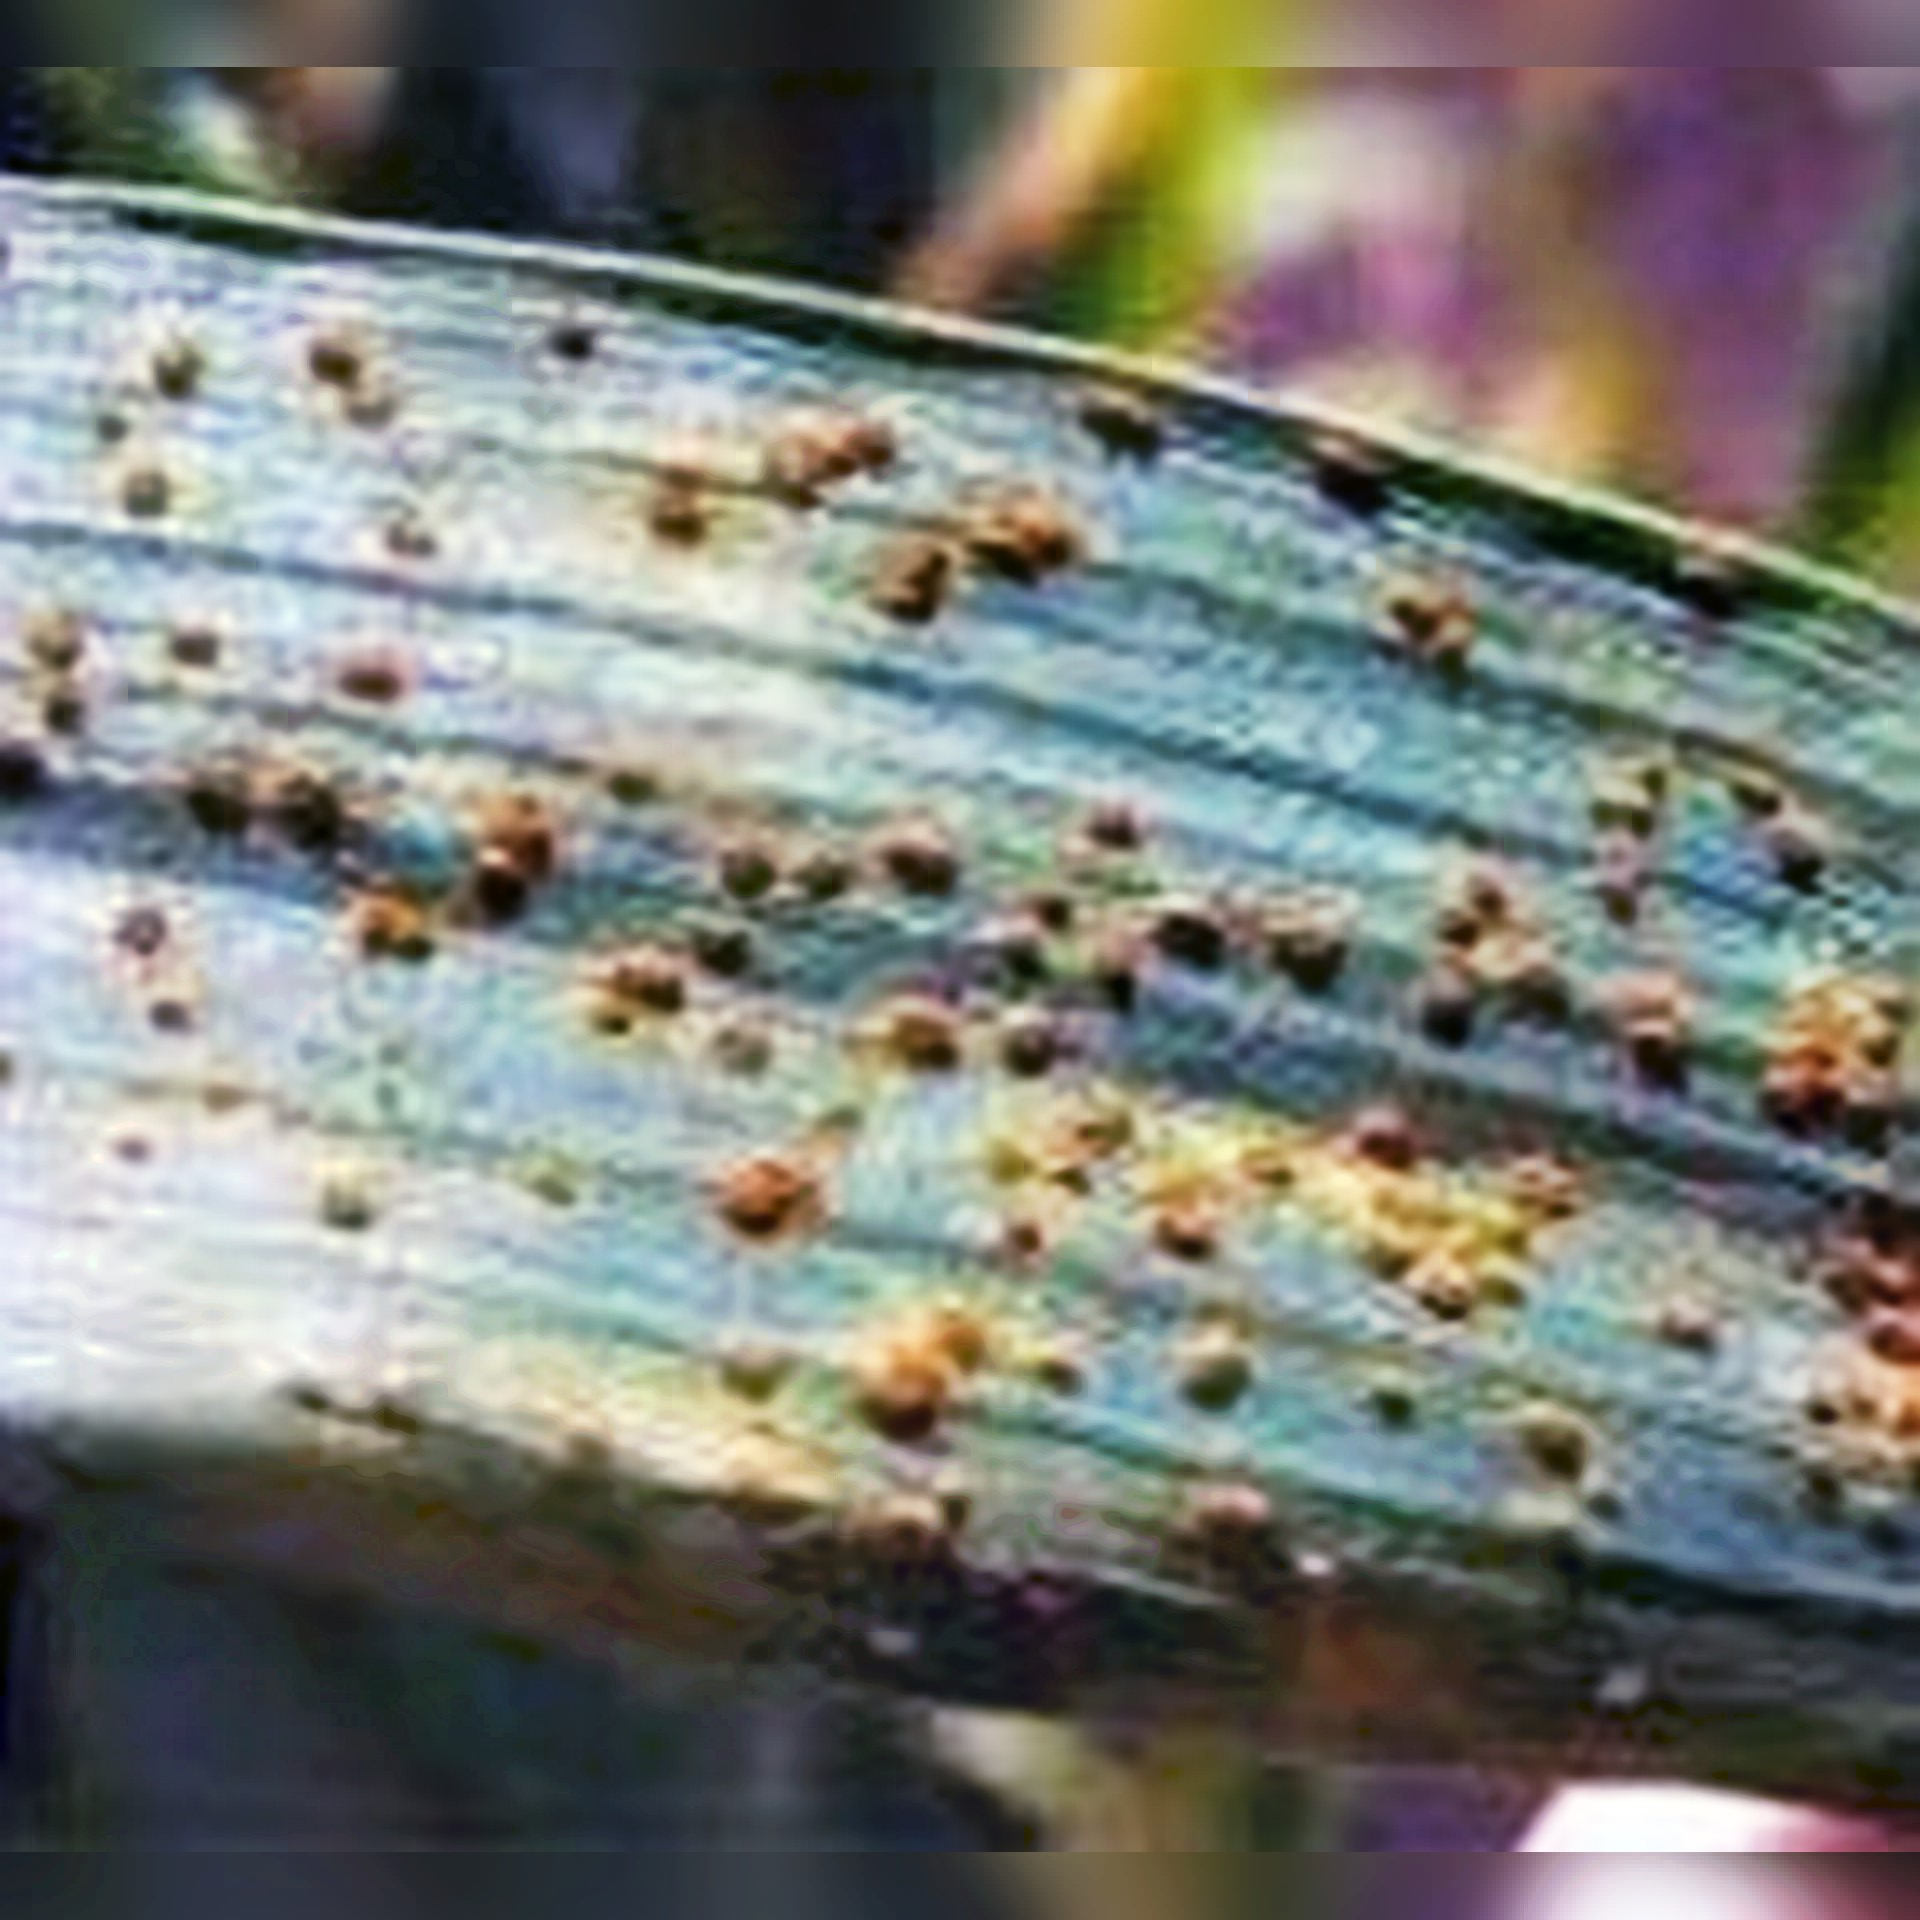Leaf Rust: (67, 253, 1860, 1649)
